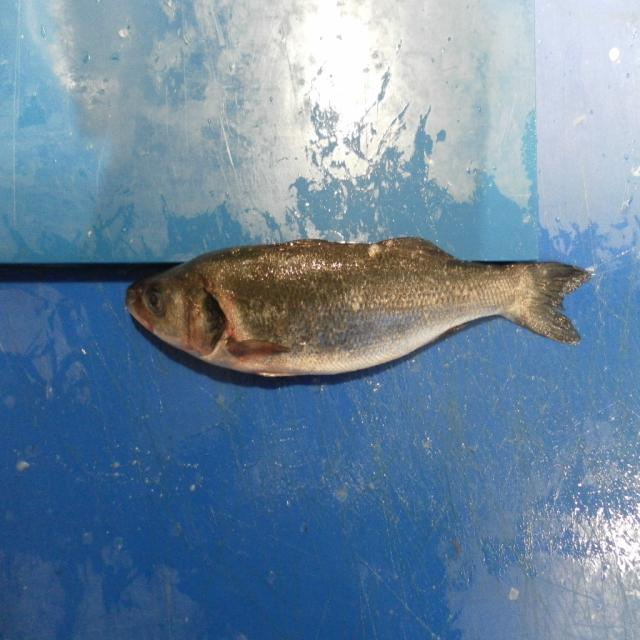Sea-Bass-levrek-: (124, 238, 594, 388)
